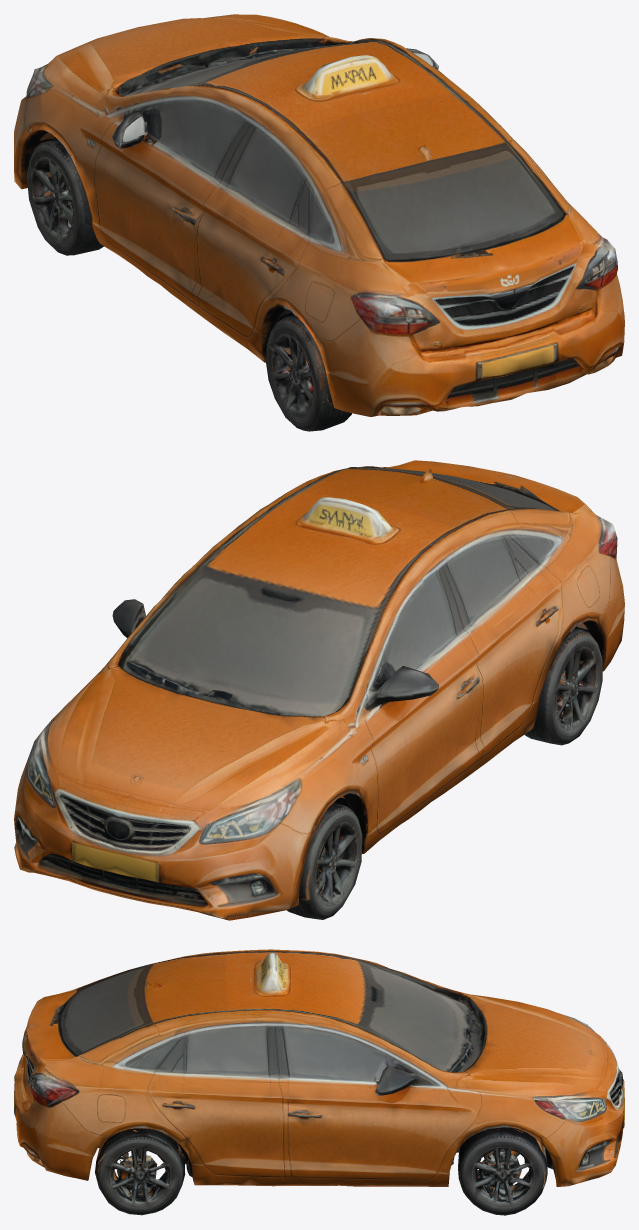
The model's file is taxi.glb.
The picture shows the model from 3 angles, top to bottom: view 1: azimuth 30°, elevation 25°; view 2: azimuth 150°, elevation 25°; view 3: azimuth 270°, elevation 25°; orthographic projection. The views are drawn at different scales.
Visible parts, largest first — view 1: texture_mapping; view 2: texture_mapping; view 3: texture_mapping.
Boxes of the visible parts, box(x1,y1,x2,y2) form: texture_mapping: box(14, 14, 624, 431); texture_mapping: box(14, 460, 624, 920); texture_mapping: box(14, 949, 624, 1215).
Bounding box in the file's own units: 0.4613 × 0.3735 × 1.
Materials: 1 (1 with a texture image).
